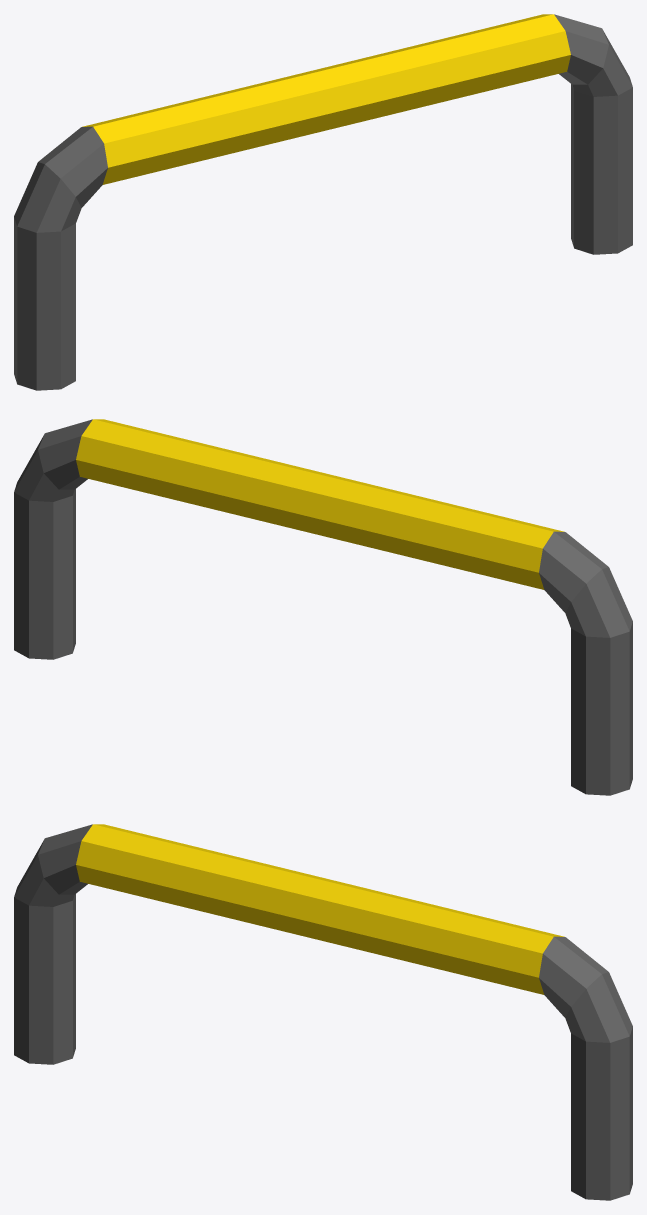
Rendered from Warehouse_Barrier.fbx.
3 renders of one model, top to bottom at view 1: azimuth 30°, elevation 25°; view 2: azimuth 150°, elevation 25°; view 3: azimuth 330°, elevation 25°, orthographic.
Visible parts, largest first — view 1: Cylinder.001; view 2: Cylinder.001; view 3: Cylinder.001.
Boxes of the visible parts, x1,y1,x2,y2 form: Cylinder.001: (14, 14, 632, 390); Cylinder.001: (14, 419, 632, 795); Cylinder.001: (14, 824, 632, 1200).
Size of the model in its own units: 2202 by 822 by 200.
